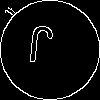J: (25, 25, 55, 73)
